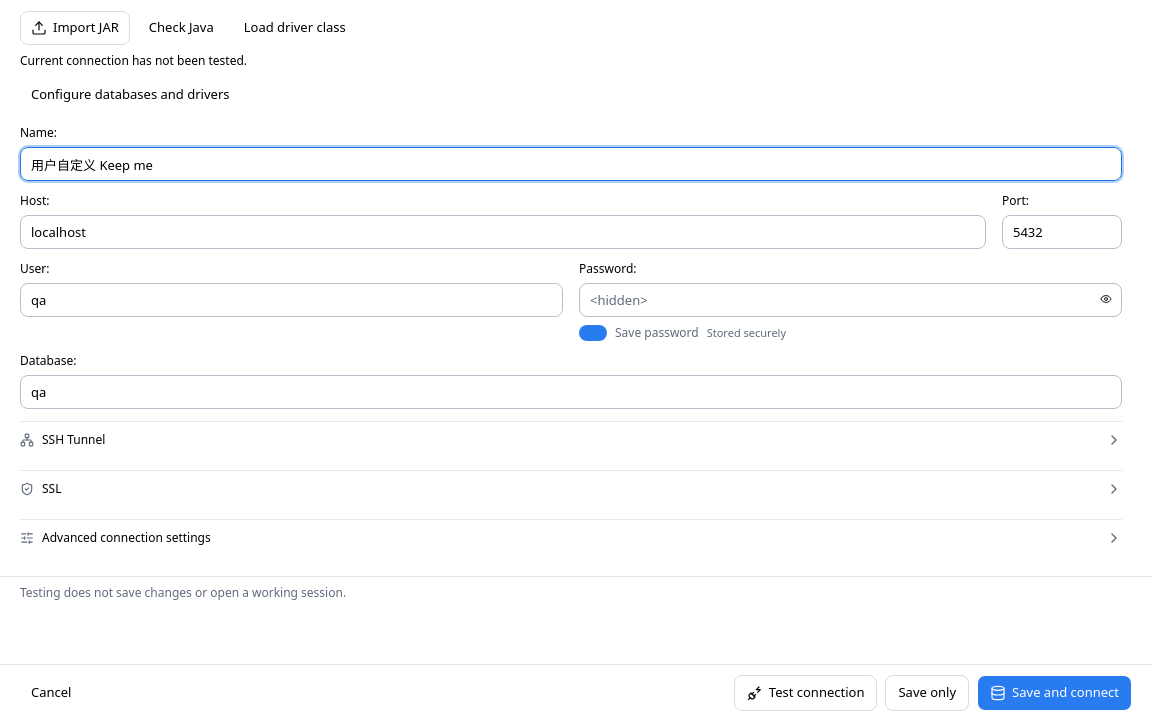
Scenario: invalidates a completed result when username changes
(page scrolled)
Click the button "Test connection": [806, 692] box [734,674,878,710]
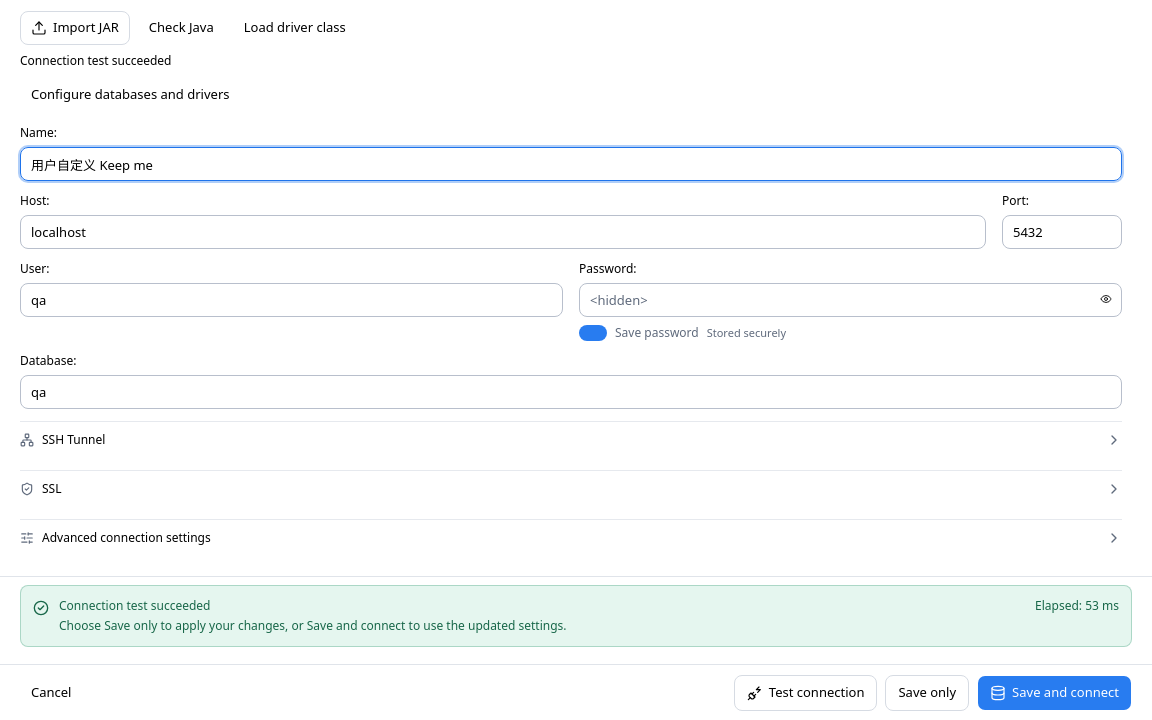
Replace the text in the field labelled "User:" with "other": [292, 300] box [20,283,563,317]
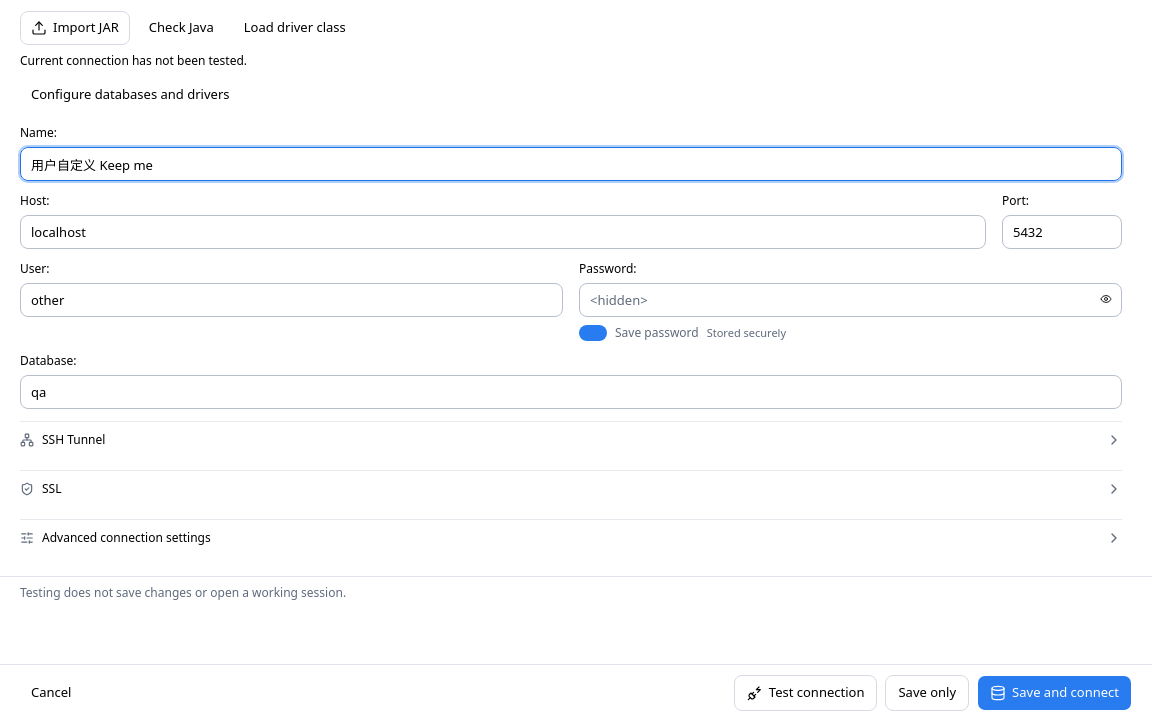
Expected: the text "Connection test succeeded" is gone
Expected: the text "Current connection has not been tested." is shown, [20,52,247,69]
